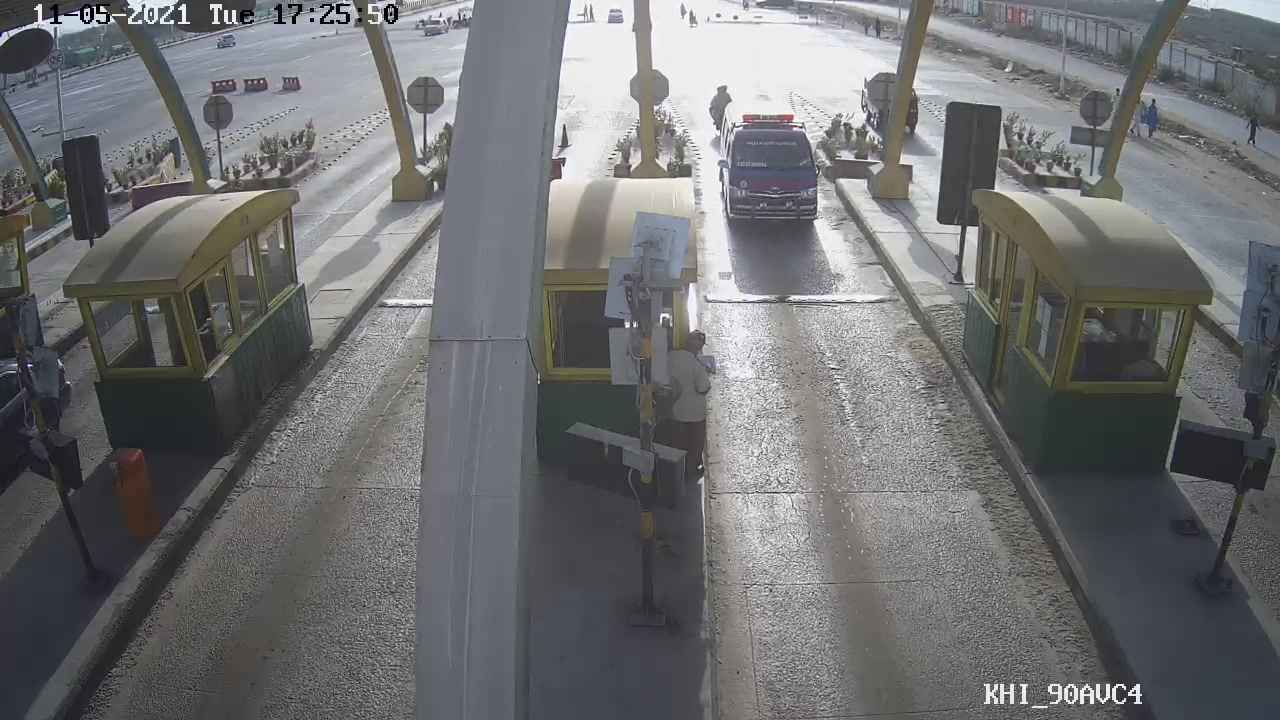F2: (711, 94, 836, 234)
